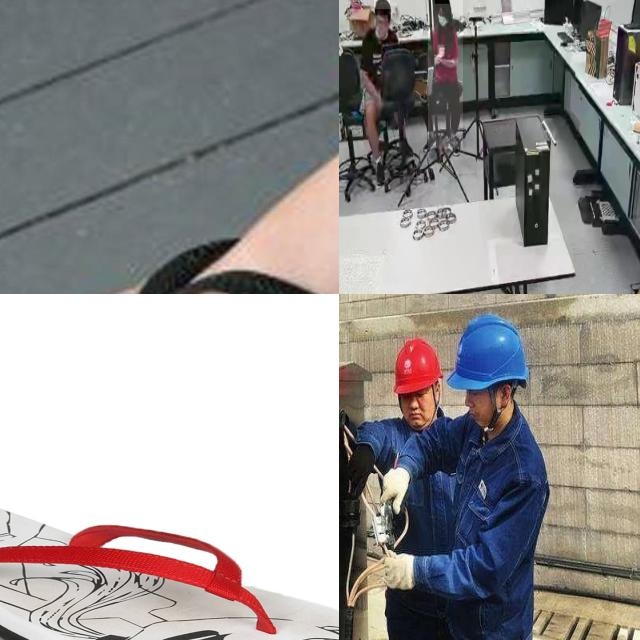No_Ear-Protection: (494, 379, 516, 415), (434, 377, 441, 401)
Sandals: (23, 117, 339, 294), (0, 497, 339, 640)
face_nomask: (374, 16, 388, 38)
hand_noglove: (437, 45, 445, 57), (436, 56, 443, 64)
head_nohelmet: (373, 0, 390, 10), (435, 0, 450, 4)
person: (356, 0, 417, 179), (428, 0, 463, 149), (413, 383, 434, 403)
